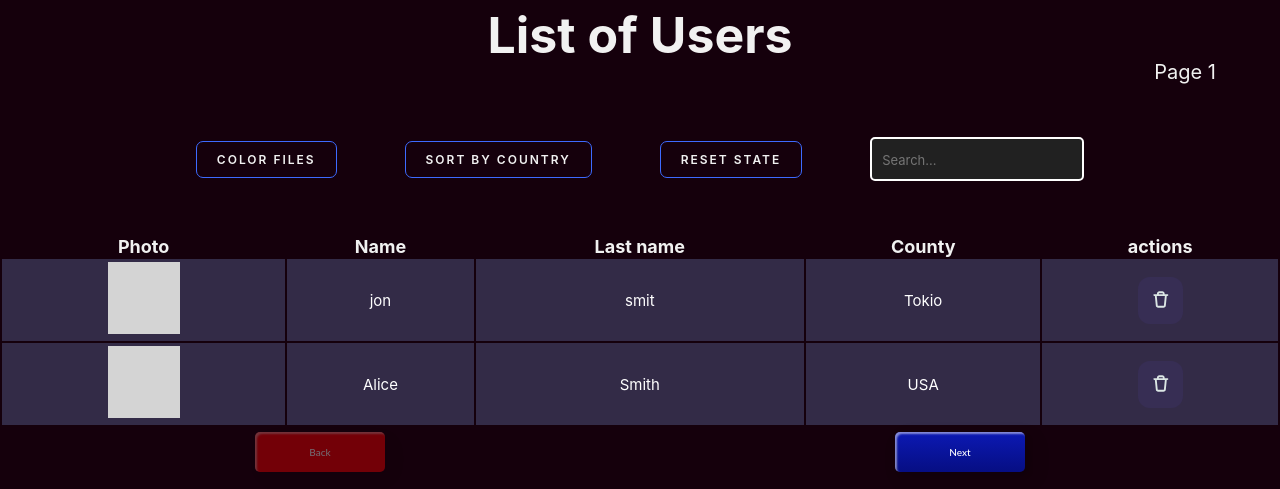
Scenario: App Component Tests › deletes a user
Check: the text "jon" is shown, box [287, 259, 474, 341]
Click the button with test id "delete-button-example.com": (1160, 300) [1138, 276, 1183, 324]
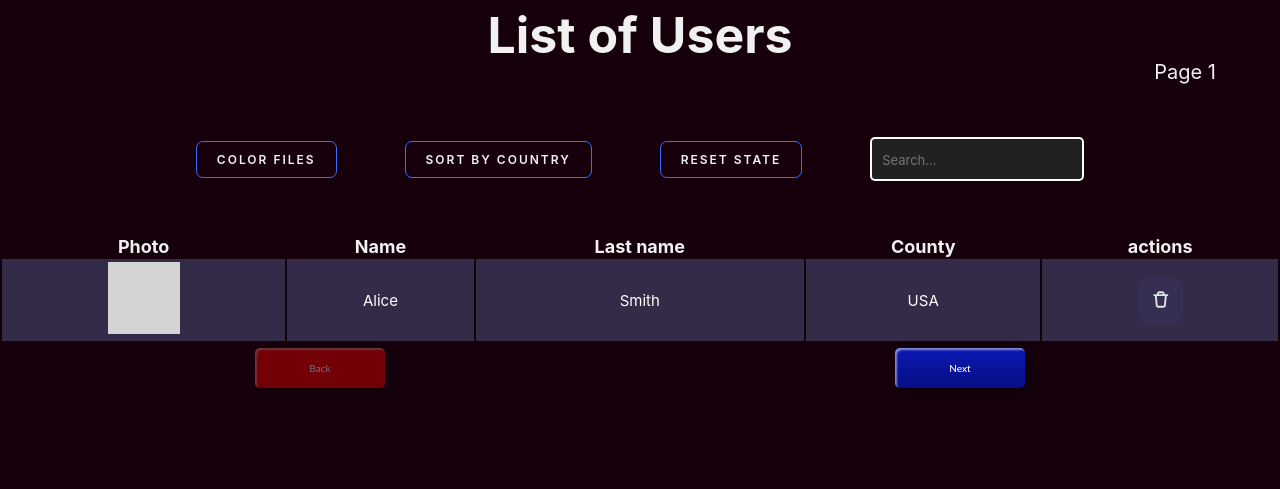
Check: the text "jon" is gone
